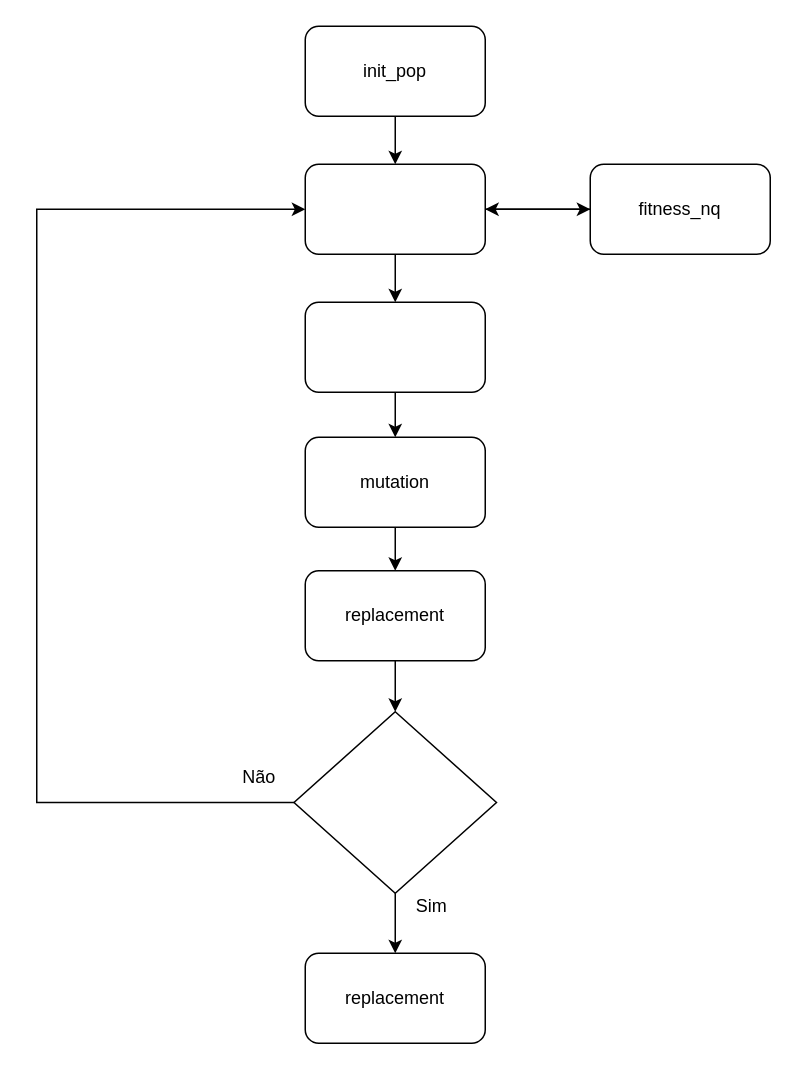
Some shapes in this 797 by 1070 pixel diagram are drawn without their labels. The centre of each missing label's shape, as x and y in pixels:
"crossover" belongs at [394,346].
"i_ger<=epochs AND best_result!=0" belongs at [394,801].
"selection" belongs at [394,208].
